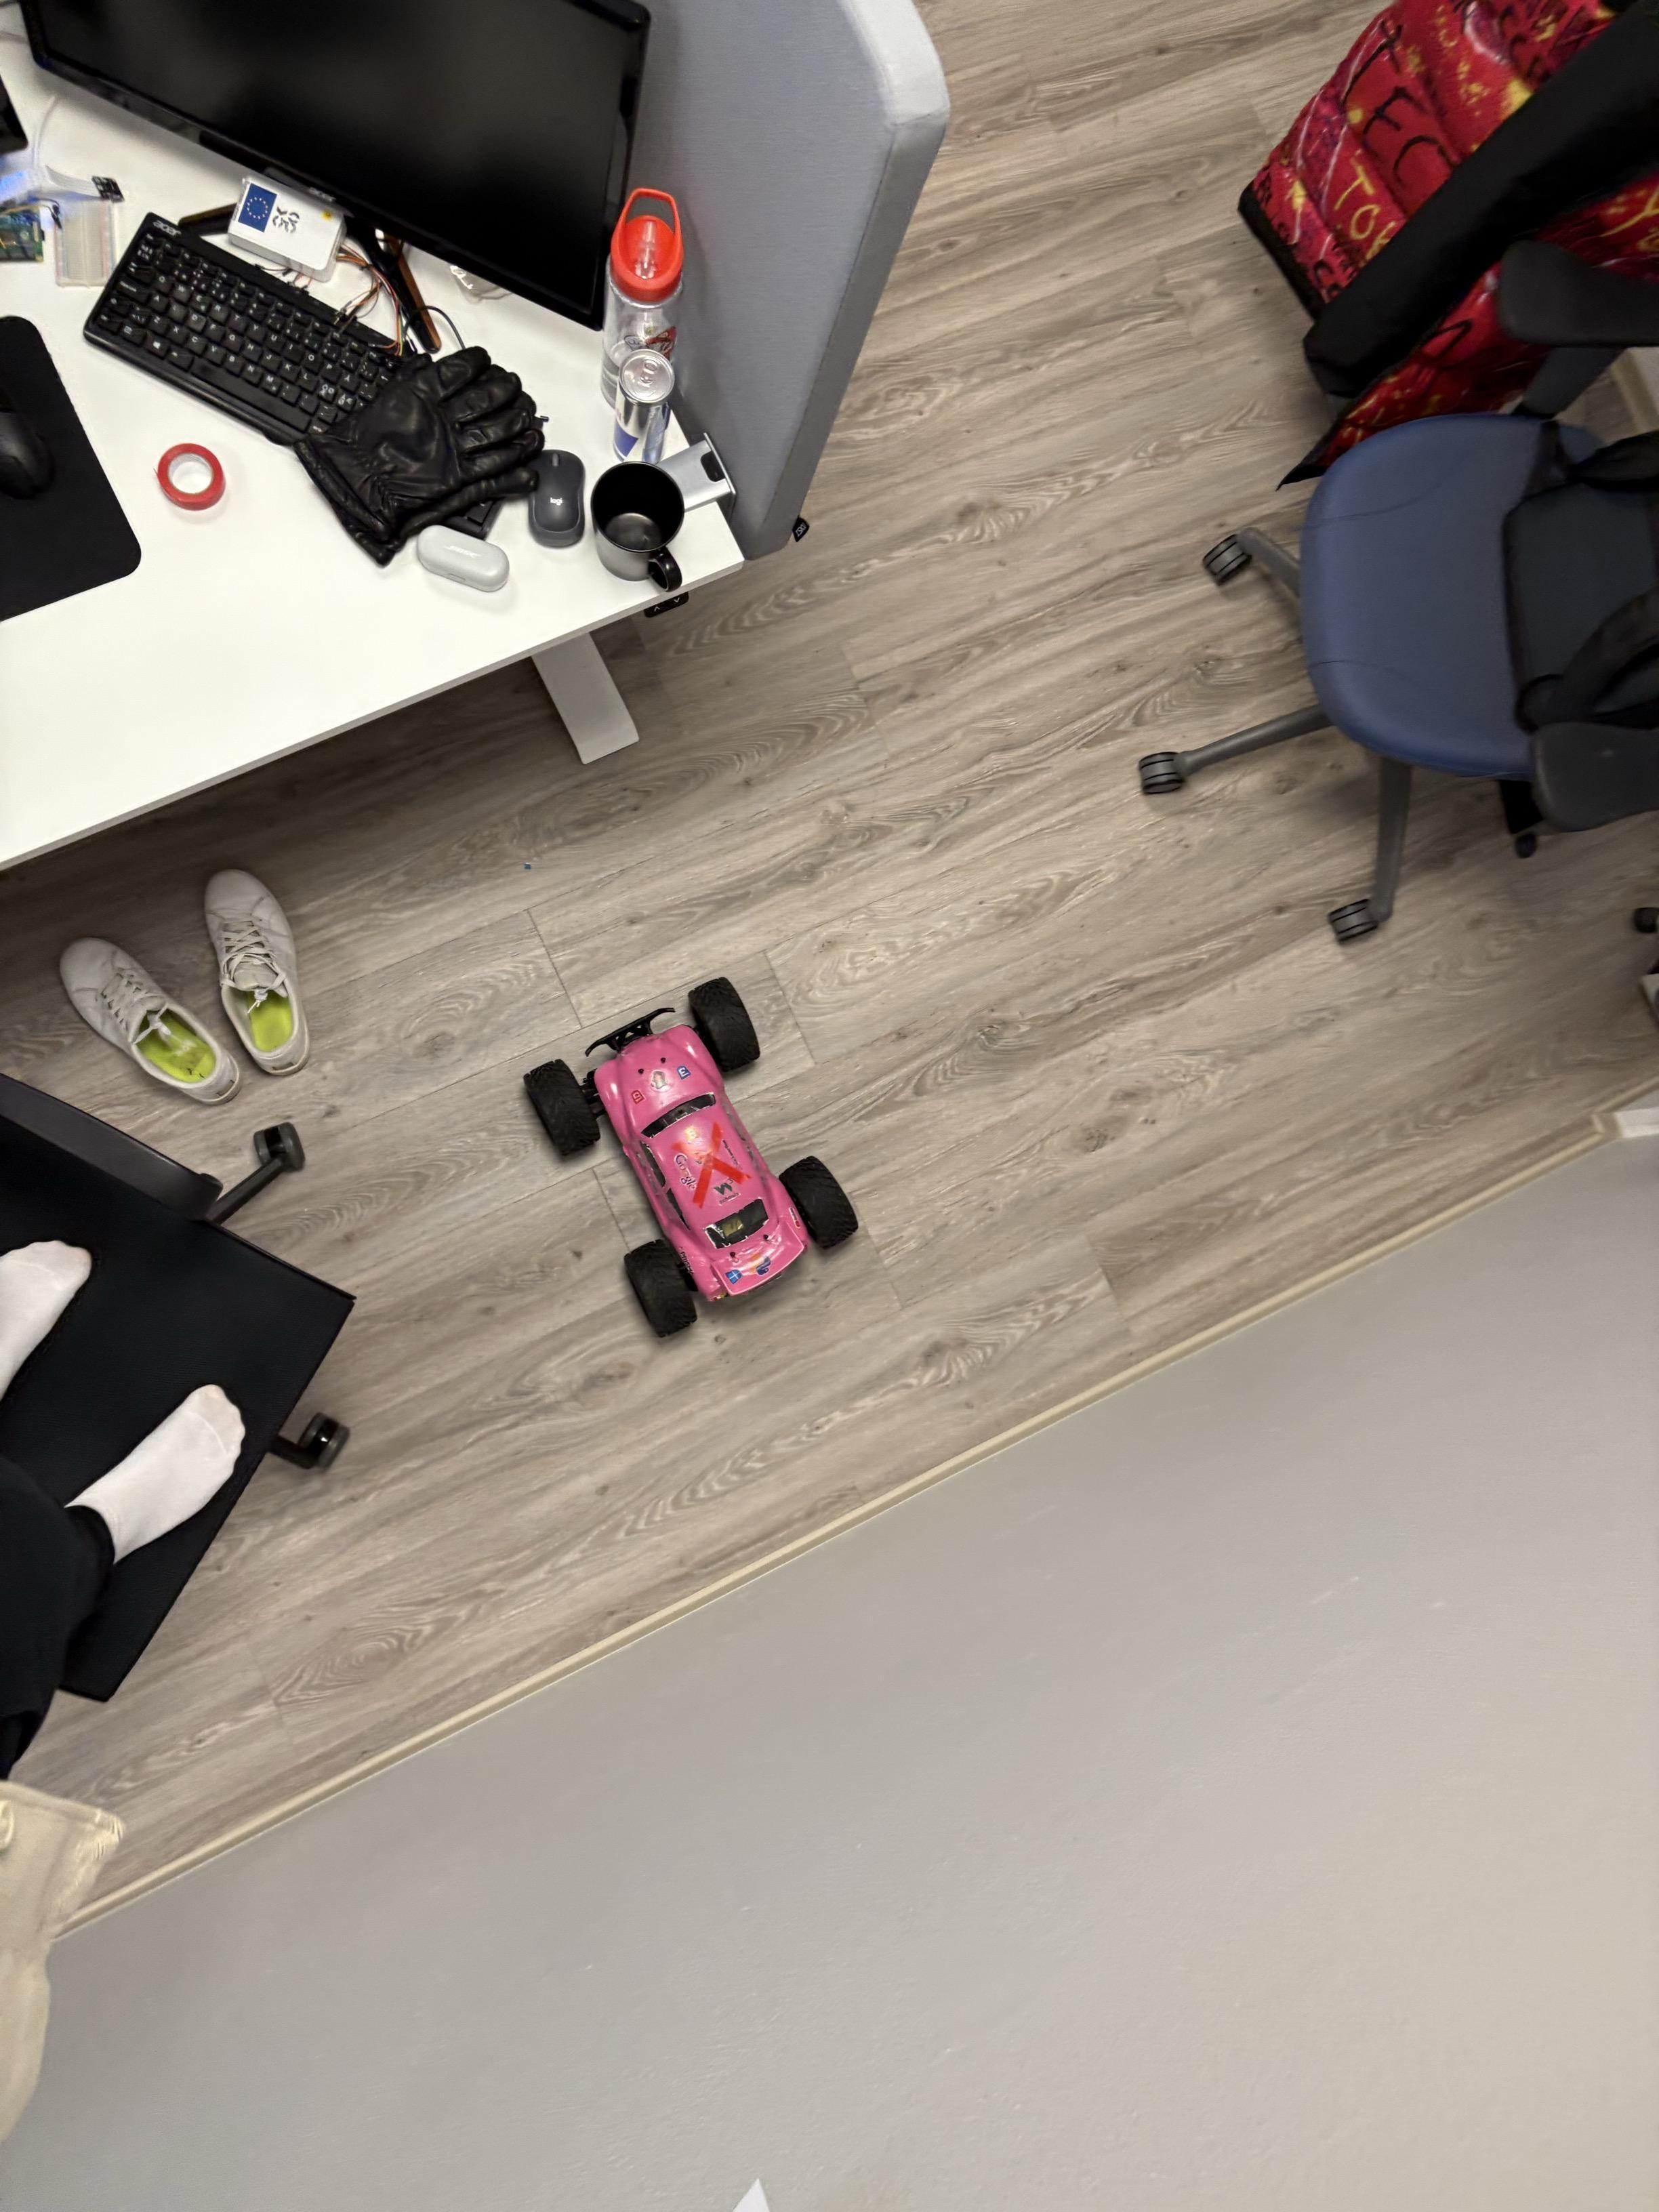Car: (454, 949, 928, 1379)
